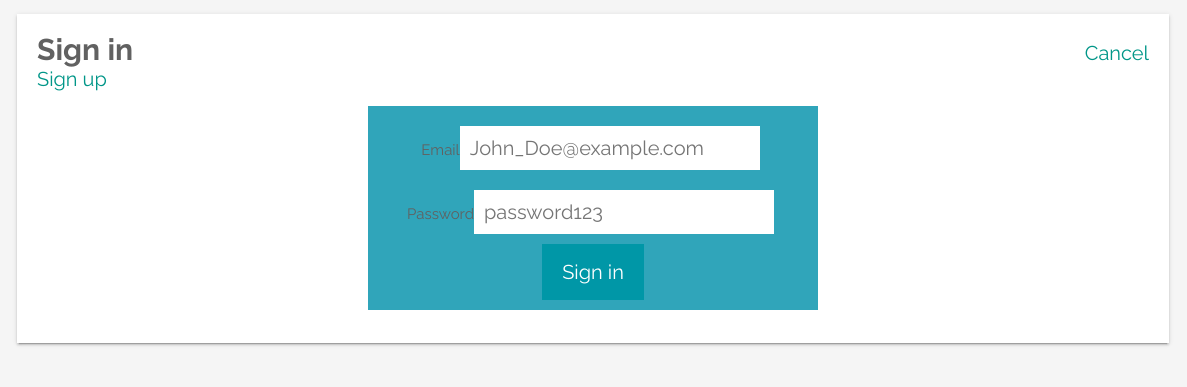
it: AuthForm Component › Error handling › should clear state error on new submission
// First submission with error
Type "test@example.com" into the field labelled "Email" at (610, 148), box [460, 126, 760, 170]
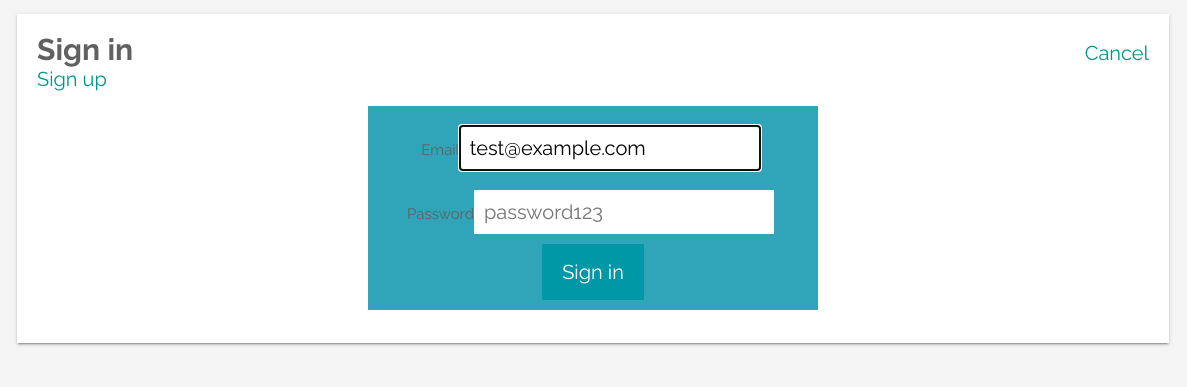
Type "password123" into the password field labelled "Password" at (624, 212), box [474, 190, 774, 234]
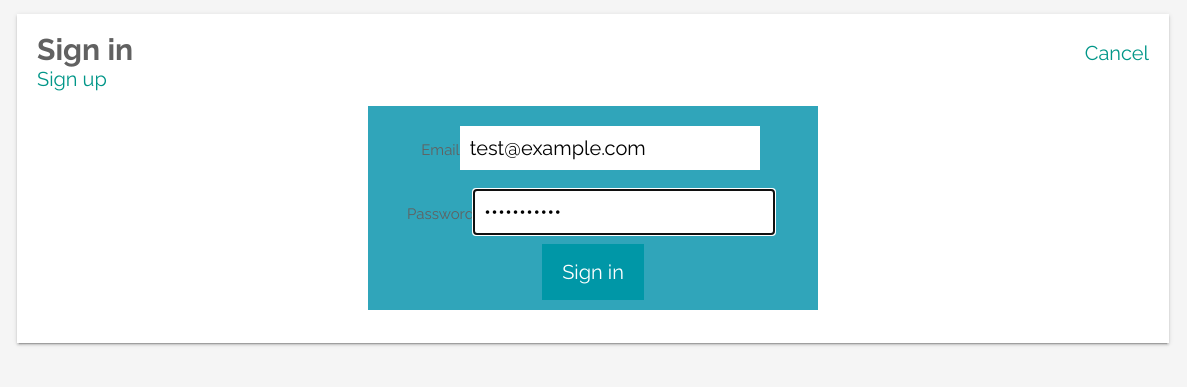
Click the button "Sign in" at (593, 272), box [542, 244, 644, 300]
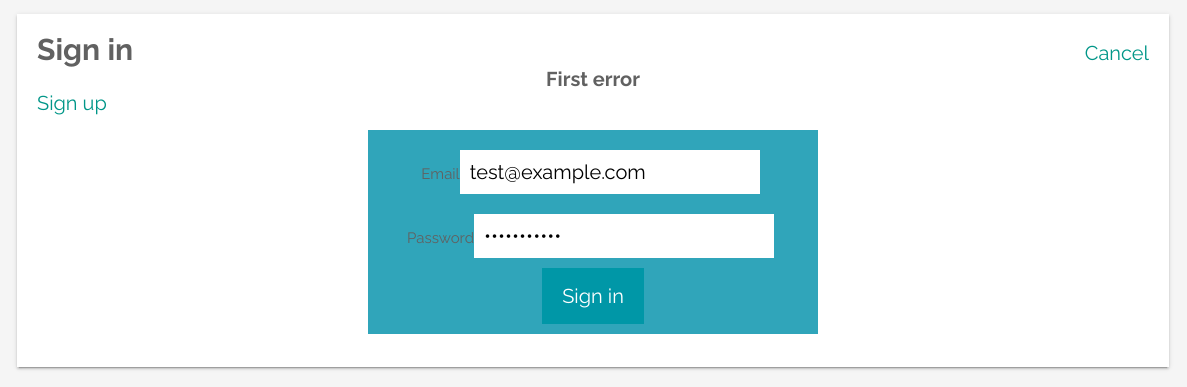
Expected: the heading "First error" is shown, [546, 67, 640, 91]
// Second submission should clear error
Click the button "Sign in" at (593, 296), box [542, 268, 644, 324]
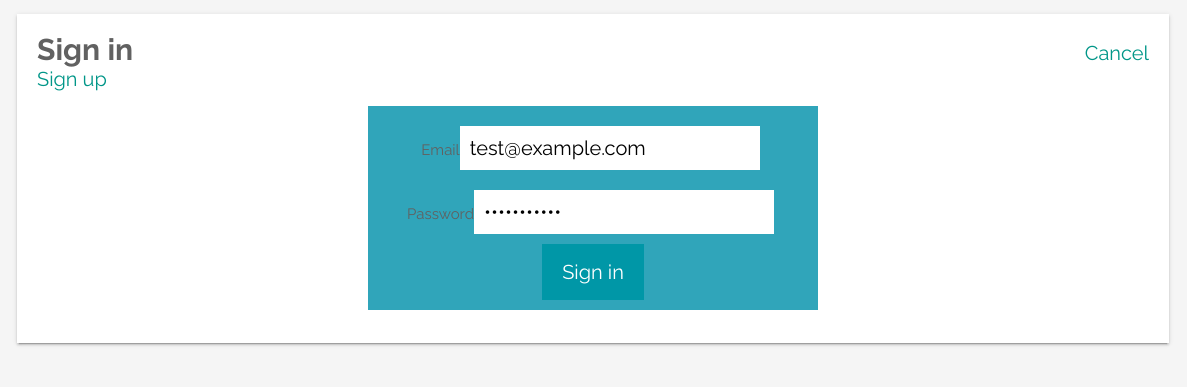
Expected: the heading "First error" is gone
